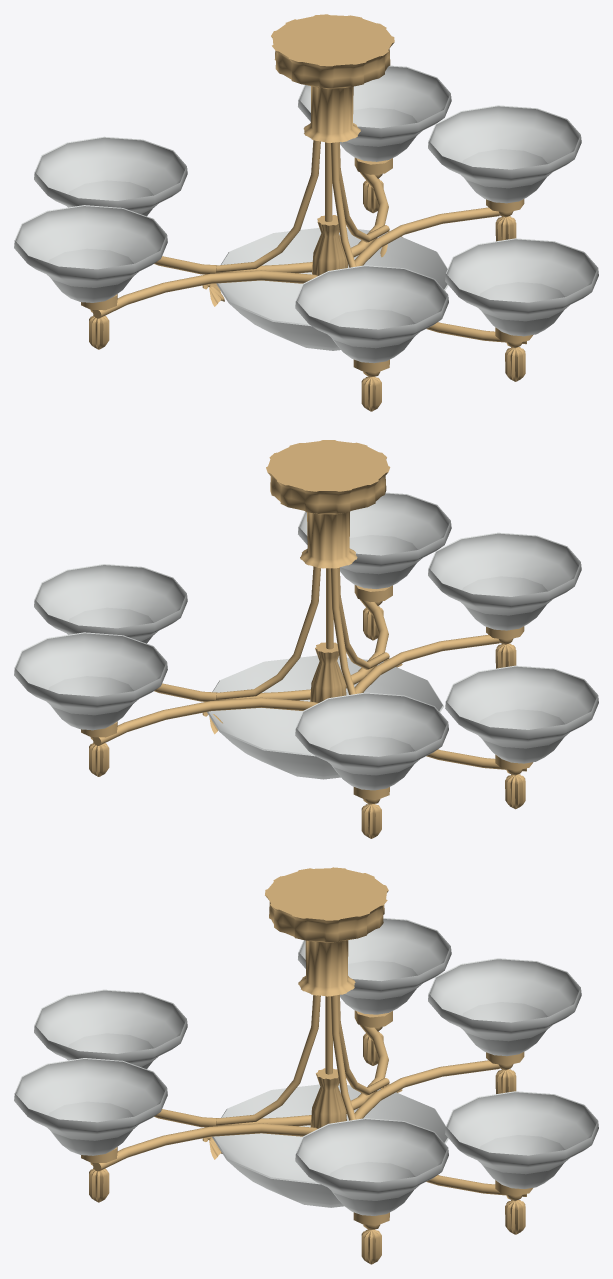
3 renders of one model, top to bottom at view 1: azimuth 30°, elevation 25°; view 2: azimuth 150°, elevation 25°; view 3: azimuth 270°, elevation 25°, orthographic.
Visible parts, largest first — view 1: Line12, Line14, Line11, Line13, Loft01, Line02, Line10, Line09, Loft21, Loft13, Loft03, Loft15 (+7 smaller); view 2: Line11, Line09, Line12, Line02, Loft01, Line10, Line13, Line14, Loft13, Loft03, Loft21, Loft10 (+7 smaller); view 3: Line13, Line02, Line14, Line09, Loft01, Line11, Line10, Line12, Loft03, Loft21, Loft13, Loft10 (+7 smaller).
Boxes of the visible parts, <box> form: Line12: <box>14,205,167,302</box>; Line14: <box>445,238,598,336</box>; Line11: <box>295,265,448,363</box>; Line13: <box>428,105,581,203</box>; Loft01: <box>271,14,394,142</box>; Line02: <box>34,136,187,216</box>; Line10: <box>216,228,448,350</box>; Line09: <box>298,65,451,161</box>; Loft21: <box>354,207,526,344</box>; Loft13: <box>93,270,317,318</box>; Loft03: <box>154,172,388,274</box>; Loft15: <box>216,140,320,272</box>; Line11: <box>428,532,581,630</box>; Line09: <box>14,632,167,730</box>; Line12: <box>445,665,598,763</box>; Line02: <box>295,692,448,790</box>; Loft01: <box>266,440,390,568</box>; Line10: <box>207,655,443,779</box>; Line13: <box>34,564,187,643</box>; Line14: <box>298,492,451,588</box>; Loft13: <box>354,634,526,771</box>; Loft03: <box>93,697,317,745</box>; Loft21: <box>154,599,388,701</box>; Loft10: <box>310,642,346,703</box>; Line13: <box>295,1118,448,1215</box>; Line02: <box>428,958,581,1056</box>; Line14: <box>14,1058,167,1155</box>; Line09: <box>445,1091,598,1188</box>; Loft01: <box>265,867,388,996</box>; Line11: <box>34,989,187,1068</box>; Line10: <box>212,1084,448,1207</box>; Line12: <box>298,918,451,1014</box>; Loft03: <box>354,1060,526,1196</box>; Loft21: <box>93,1123,317,1171</box>; Loft13: <box>154,1025,388,1127</box>; Loft10: <box>310,1068,346,1128</box>.
Bounding box in the file's own units: 654 × 345 × 607.
